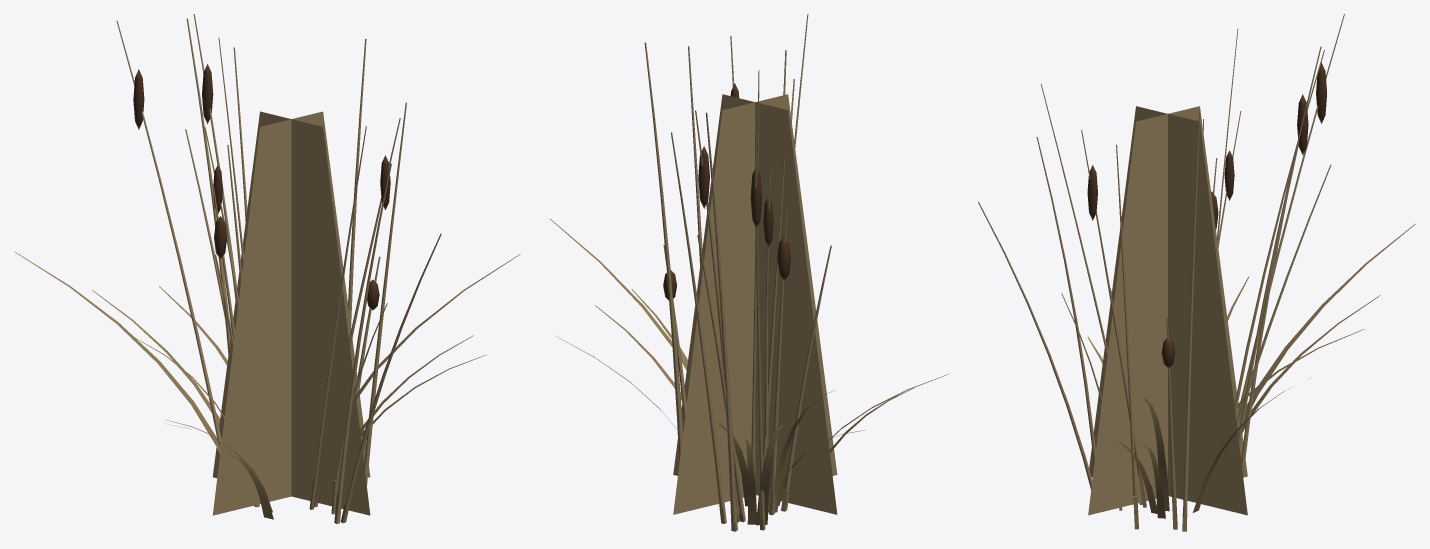
Rendered from reed_clump_0.glb.
3 renders of one model, left to right at view 1: azimuth 30°, elevation 25°; view 2: azimuth 150°, elevation 25°; view 3: azimuth 270°, elevation 25°, orthographic. The views are drawn at different scales.
Visible parts, largest first — view 1: LOD_Far, ReedClump_Stalks_2, ReedClump_Stalks_0, ReedClump_Stalks_1, ReedClump_Blades_2, ReedClump_Blades_0, ReedClump_Heads_2, ReedClump_Heads_0, ReedClump_Heads_1, ReedClump_Blades_1; view 2: LOD_Far, ReedClump_Stalks_1, ReedClump_Stalks_0, ReedClump_Stalks_2, ReedClump_Blades_0, ReedClump_Blades_1, ReedClump_Blades_2, ReedClump_Heads_1, ReedClump_StubbleStalks, ReedClump_Heads_0, ReedClump_Heads_2; view 3: LOD_Far, ReedClump_Stalks_2, ReedClump_Stalks_0, ReedClump_Stalks_1, ReedClump_Blades_1, ReedClump_Blades_0, ReedClump_Heads_2, ReedClump_Blades_2, ReedClump_Heads_0, ReedClump_StubbleStalks, ReedClump_Heads_1.
Boxes of the visible parts, box(x1,y1,x2,y2) form: LOD_Far: box(212, 111, 370, 515); ReedClump_Stalks_2: box(116, 20, 400, 516); ReedClump_Stalks_0: box(185, 14, 441, 518); ReedClump_Stalks_1: box(204, 47, 406, 465); ReedClump_Blades_2: box(14, 251, 273, 519); ReedClump_Blades_0: box(92, 254, 520, 512); ReedClump_Heads_2: box(133, 69, 390, 210); ReedClump_Heads_0: box(202, 64, 379, 310); ReedClump_Heads_1: box(213, 165, 227, 258); ReedClump_Blades_1: box(134, 335, 486, 436); LOD_Far: box(673, 94, 837, 514); ReedClump_Stalks_1: box(671, 46, 831, 508); ReedClump_Stalks_0: box(663, 70, 794, 523); ReedClump_Stalks_2: box(644, 14, 808, 518); ReedClump_Blades_0: box(549, 218, 948, 524); ReedClump_Blades_1: box(556, 289, 834, 512); ReedClump_Blades_2: box(756, 387, 914, 525); ReedClump_Heads_1: box(763, 196, 790, 280); ReedClump_StubbleStalks: box(717, 488, 788, 531); ReedClump_Heads_0: box(663, 146, 709, 300); ReedClump_Heads_2: box(730, 83, 761, 228); LOD_Far: box(1088, 106, 1247, 515); ReedClump_Stalks_2: box(1036, 14, 1344, 516); ReedClump_Stalks_0: box(978, 29, 1331, 498); ReedClump_Stalks_1: box(1116, 101, 1307, 495); ReedClump_Blades_1: box(1091, 276, 1311, 518); ReedClump_Blades_0: box(1110, 288, 1380, 511); ReedClump_Heads_2: box(1087, 62, 1326, 220); ReedClump_Blades_2: box(1087, 223, 1415, 420); ReedClump_Heads_0: box(1161, 94, 1308, 368); ReedClump_StubbleStalks: box(1119, 470, 1243, 531); ReedClump_Heads_1: box(1211, 150, 1234, 228).
Size of the model in its own units: 1.64 by 1.9 by 1.66.
